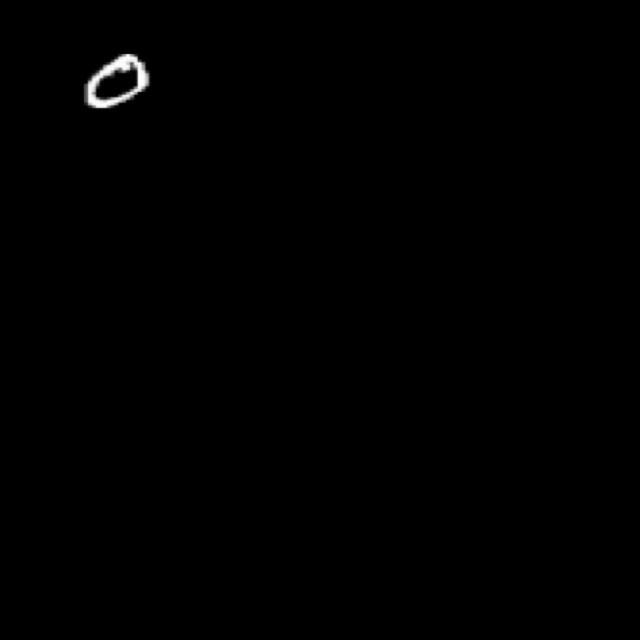zero -0-: (62, 44, 168, 124)
